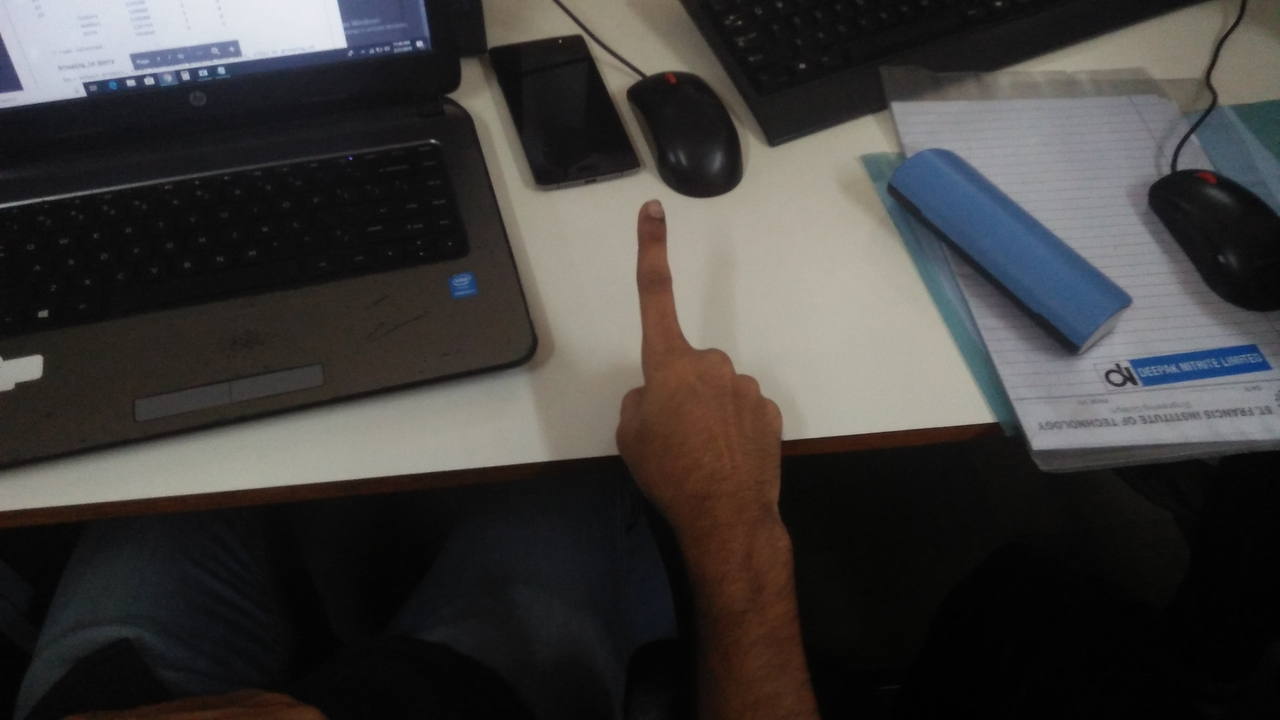fingertip: (626, 184, 680, 232)
